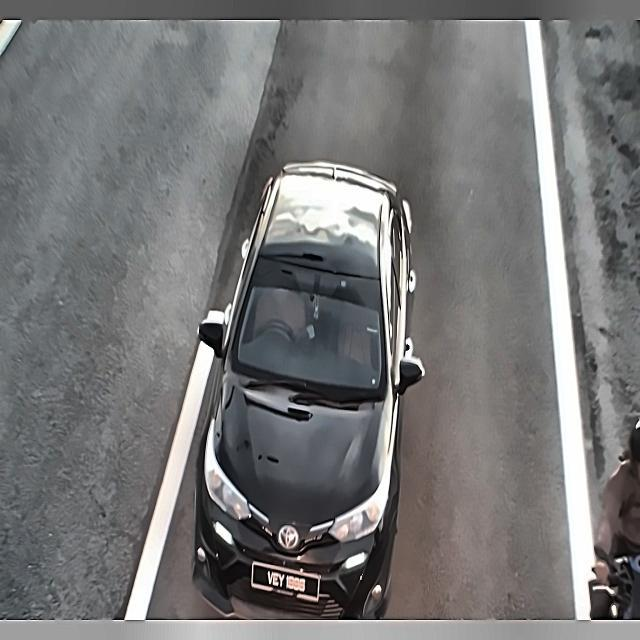car: (249, 559, 324, 607)
